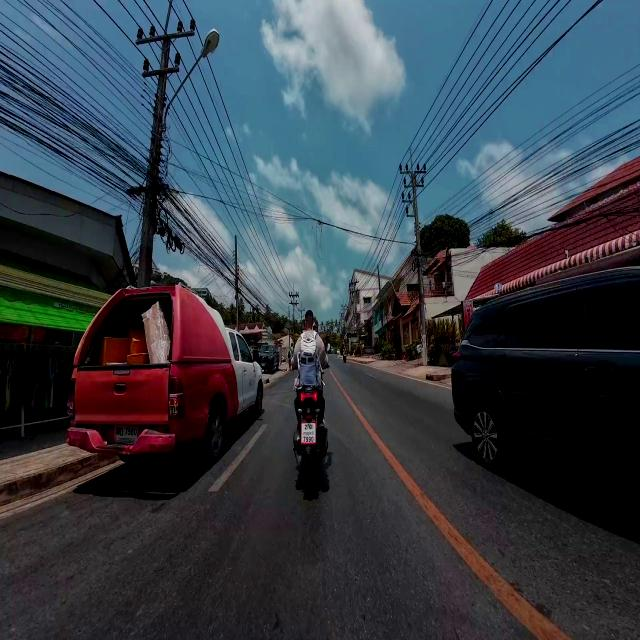car: (452, 268, 639, 504), (67, 286, 263, 461), (258, 345, 279, 373)
motorcycle: (296, 387, 326, 491)
